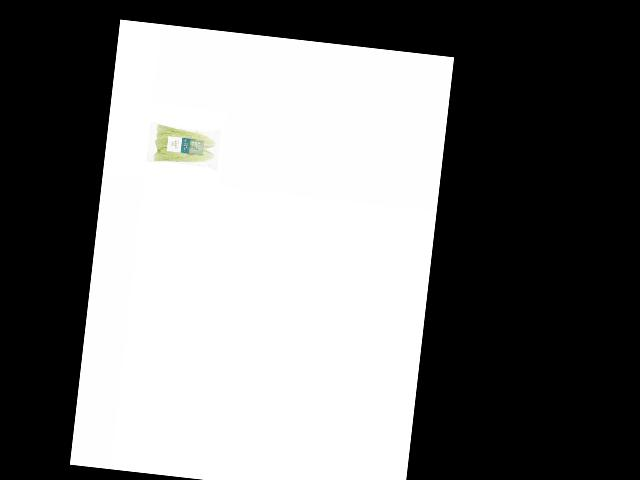lettuce: (150, 123, 218, 172)
